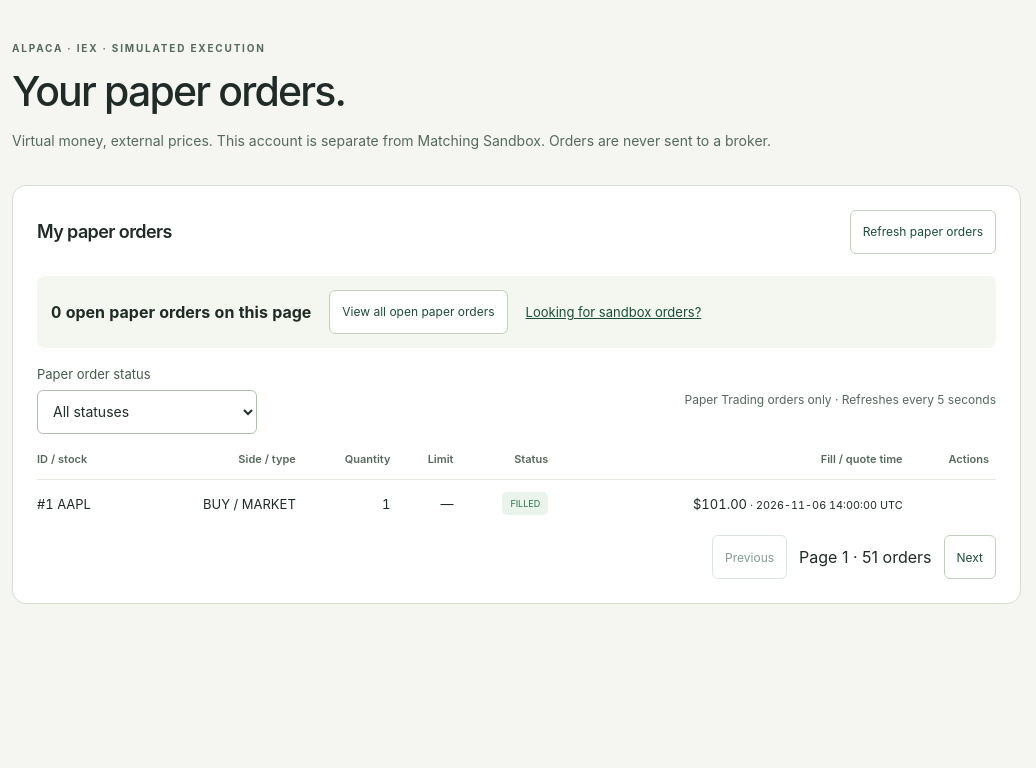
it: shows a scoped active count and uses the server total for all open orders
The image size is (1036, 768).
Expected: the text "0 open paper orders on this page" is shown, [51,302,311,322]
Click the button "View all open paper orders" at coordinates (418, 312), box [329,290,508,334]
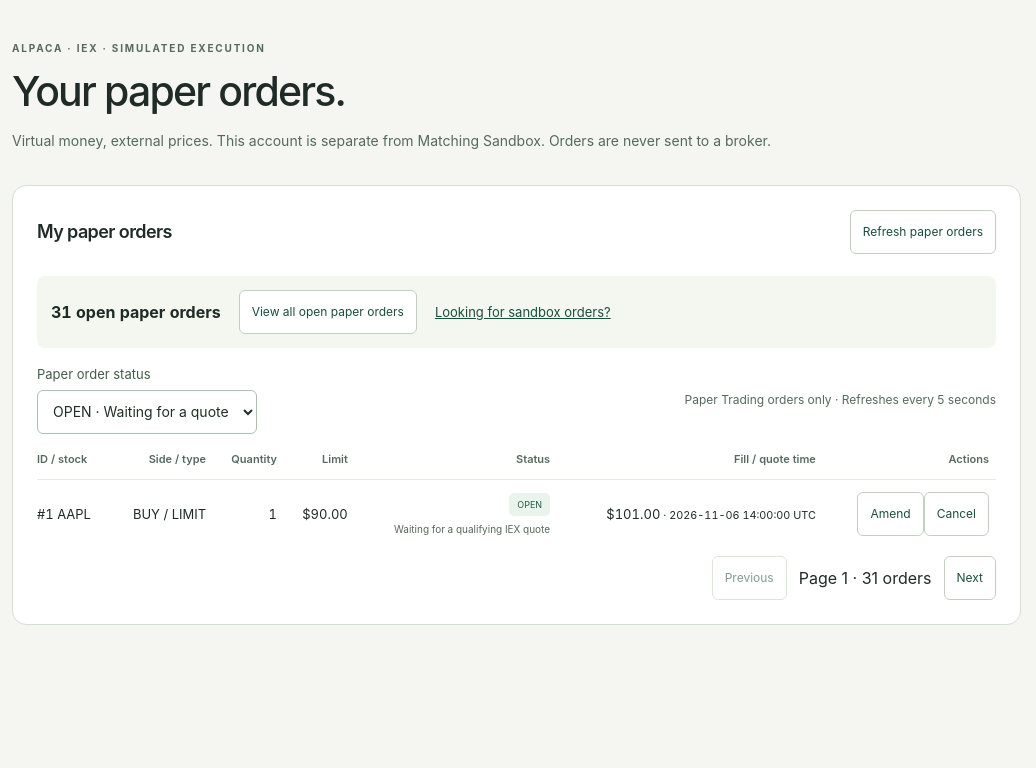
Expected: the text "31 open paper orders" is shown, [51,302,221,322]
